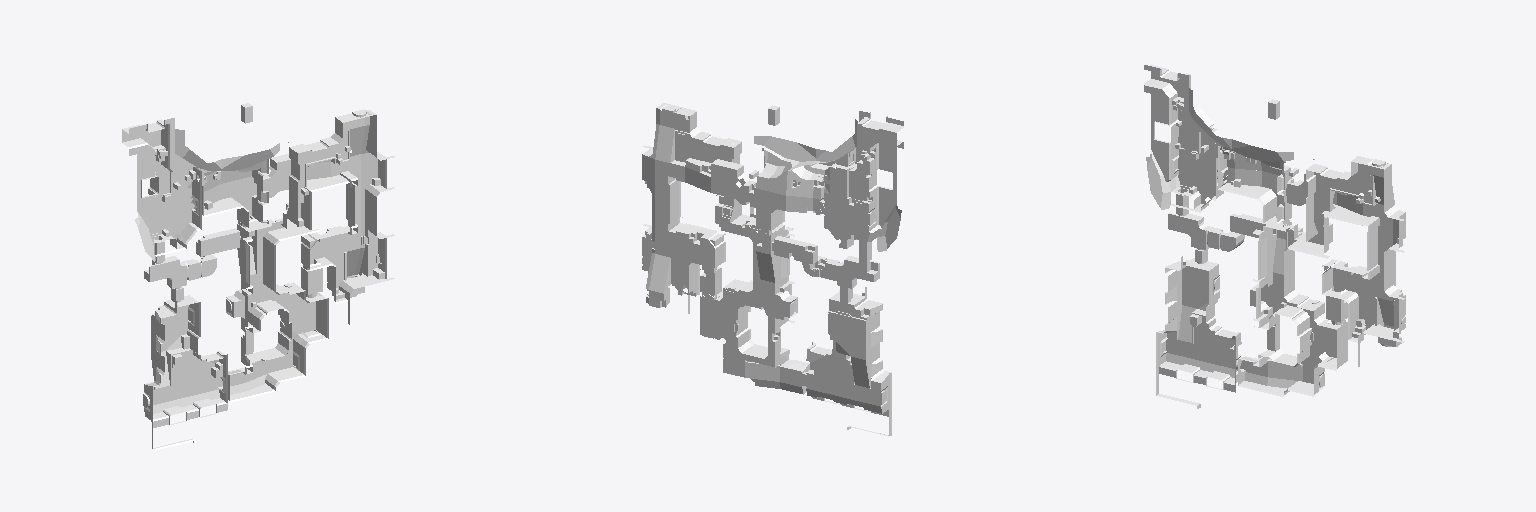
Rendered from Triangulated.obj.
3 renders of one model, left to right at view 1: azimuth 30°, elevation 25°; view 2: azimuth 150°, elevation 25°; view 3: azimuth 330°, elevation 25°, orthographic.
Parts seen in each view (by area): view 1: Dust2; view 2: Dust2; view 3: Dust2.
Boxes of the visible parts, box(x1,y1,x2,y2) form: Dust2: box(122, 103, 394, 450); Dust2: box(642, 103, 903, 436); Dust2: box(1144, 65, 1405, 408).
Bounding box in the file's own units: 112 × 133 × 15.2.